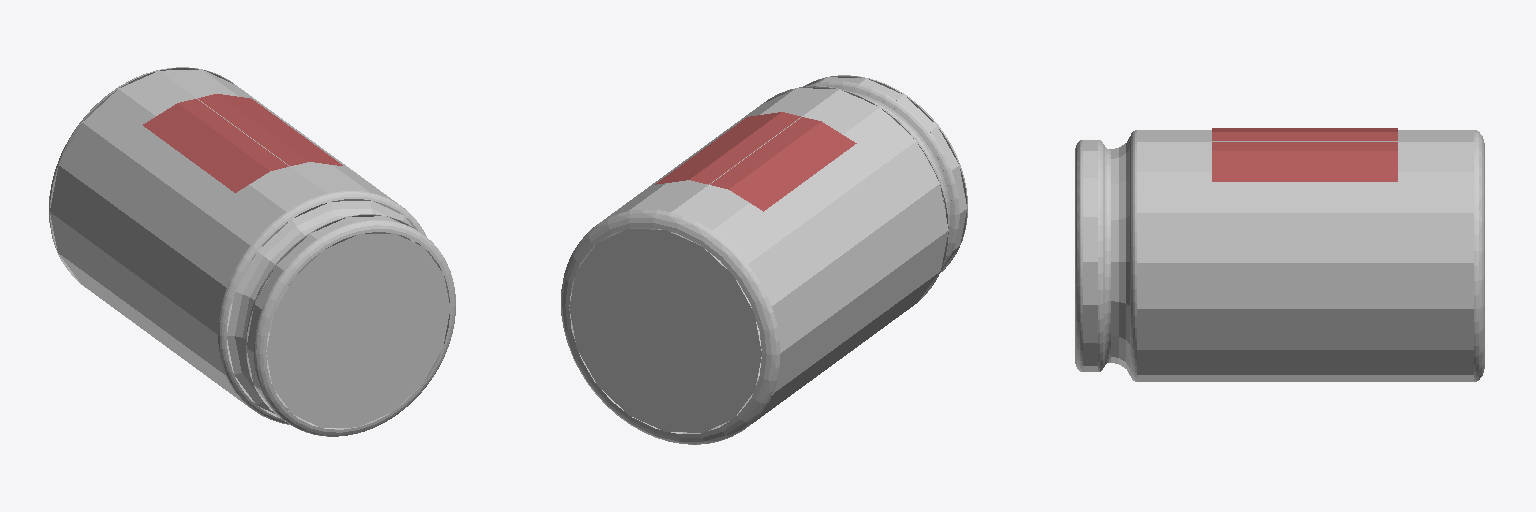
3 views of the same model, side by side, from view 1: azimuth 30°, elevation 25°; view 2: azimuth 150°, elevation 25°; view 3: azimuth 270°, elevation 25° (orthographic).
Visible parts, largest first — view 1: ShapeIndexedFaceSet.005_ShapeIndexedFaceSet, ShapeIndexedFaceSet.001_ShapeIndexedFaceSet.002, ShapeIndexedFaceSet.002_ShapeIndexedFaceSet.003, ShapeIndexedFaceSet_ShapeIndexedFaceSet.001, ShapeIndexedFaceSet.004_ShapeIndexedFaceSet.005; view 2: ShapeIndexedFaceSet.005_ShapeIndexedFaceSet, ShapeIndexedFaceSet.003_ShapeIndexedFaceSet.004, ShapeIndexedFaceSet_ShapeIndexedFaceSet.001, ShapeIndexedFaceSet.004_ShapeIndexedFaceSet.005, ShapeIndexedFaceSet.002_ShapeIndexedFaceSet.003; view 3: ShapeIndexedFaceSet.005_ShapeIndexedFaceSet, ShapeIndexedFaceSet.002_ShapeIndexedFaceSet.003, ShapeIndexedFaceSet_ShapeIndexedFaceSet.001, ShapeIndexedFaceSet.004_ShapeIndexedFaceSet.005.
Part boxes in pixels (left/top/right/bottom): ShapeIndexedFaceSet.005_ShapeIndexedFaceSet: left=50, top=69, right=416, bottom=417; ShapeIndexedFaceSet.001_ShapeIndexedFaceSet.002: left=266, top=233, right=449, bottom=427; ShapeIndexedFaceSet.002_ShapeIndexedFaceSet.003: left=218, top=191, right=455, bottom=436; ShapeIndexedFaceSet_ShapeIndexedFaceSet.001: left=143, top=94, right=342, bottom=192; ShapeIndexedFaceSet.004_ShapeIndexedFaceSet.005: left=49, top=67, right=234, bottom=283; ShapeIndexedFaceSet.005_ShapeIndexedFaceSet: left=569, top=88, right=948, bottom=433; ShapeIndexedFaceSet.003_ShapeIndexedFaceSet.004: left=569, top=229, right=761, bottom=432; ShapeIndexedFaceSet_ShapeIndexedFaceSet.001: left=655, top=112, right=856, bottom=211; ShapeIndexedFaceSet.004_ShapeIndexedFaceSet.005: left=561, top=209, right=780, bottom=444; ShapeIndexedFaceSet.002_ShapeIndexedFaceSet.003: left=764, top=75, right=967, bottom=301; ShapeIndexedFaceSet.005_ShapeIndexedFaceSet: left=1137, top=130, right=1473, bottom=381; ShapeIndexedFaceSet.002_ShapeIndexedFaceSet.003: left=1075, top=130, right=1136, bottom=381; ShapeIndexedFaceSet_ShapeIndexedFaceSet.001: left=1212, top=128, right=1397, bottom=181; ShapeIndexedFaceSet.004_ShapeIndexedFaceSet.005: left=1474, top=130, right=1484, bottom=381.
Size of the model in its own units: 4.32 by 4.32 by 7.